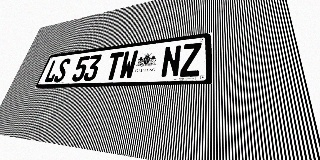3: (82, 54, 102, 81)
5: (71, 56, 90, 82)
L: (43, 59, 62, 83)
N: (160, 45, 182, 78)
S: (52, 58, 72, 82)
T: (104, 51, 124, 80)
W: (118, 50, 139, 80)
Z: (180, 42, 201, 77)
